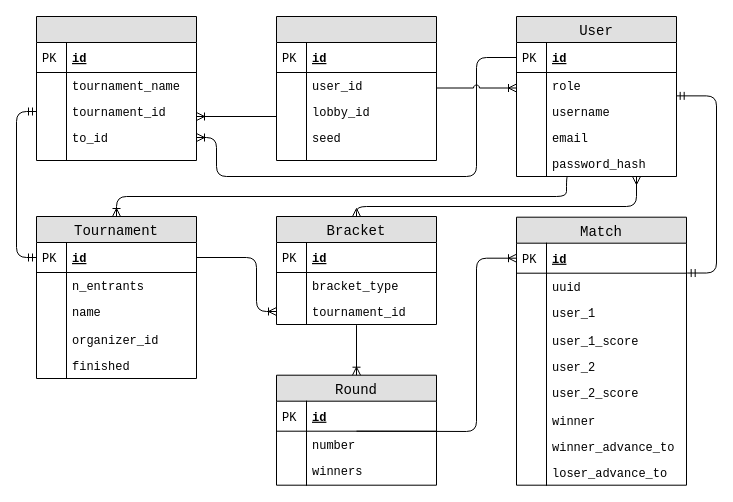
Image size: 733x502. Some labels were removed from this diagram. Each missing label, with the box of its shape:
Lobby: (36, 16, 196, 160)
lobby_seeds: (276, 16, 436, 160)
